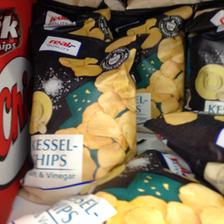Chips: (23, 32, 138, 202)
